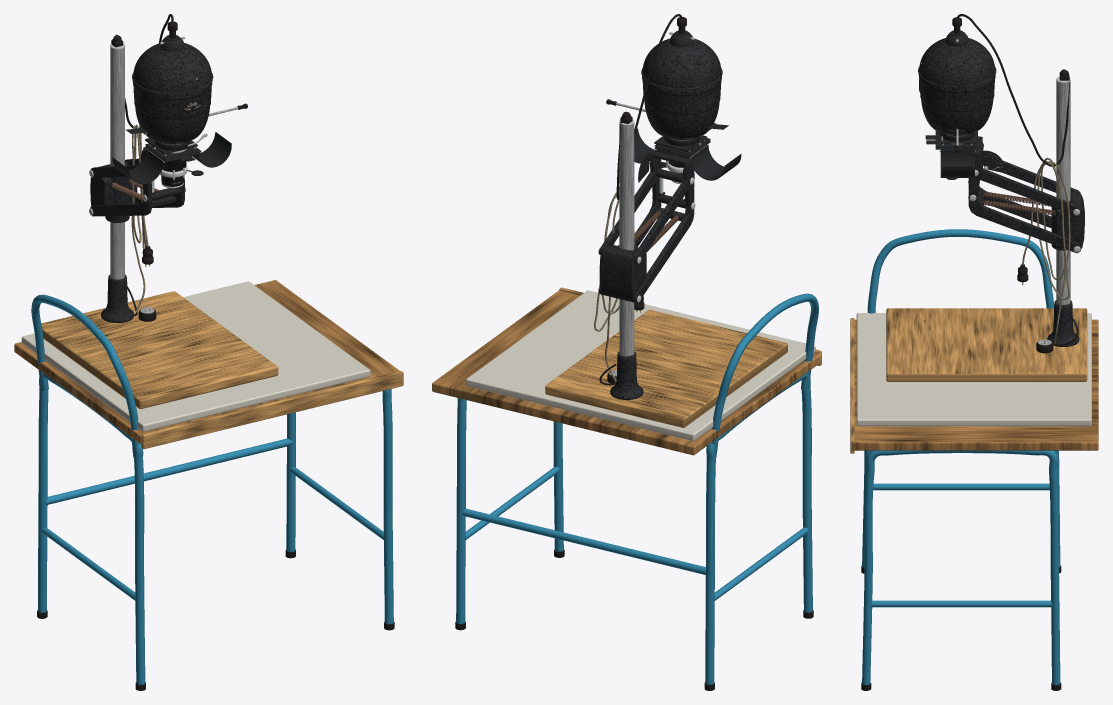
Rendered from upload-f1f31622-40b5-4fcd-8d2b-7025e543b0b1.glb.
3 renders of one model, left to right at view 1: azimuth 30°, elevation 25°; view 2: azimuth 150°, elevation 25°; view 3: azimuth 270°, elevation 25°, orthographic. The views are drawn at different scales.
Visible parts, largest first — view 1: Vernikli büyütme tablası, Beyaz çalışma levhası, Ahşap tezgâh tablası, Mavi boyalı tezgâh yan ayağı, Ön ahşap kuşak, Mavi boyalı tezgâh yan ayağı.001, Üst kubbe, Ana fırçalı çelik kolon, Tezgâhın yükselen mavi itme kolu, Tezgâh alt arka kuşağı, Orta gövde ve pres çizgileri, Alt gövde · havalandırma delikleri (+8 smaller); view 2: Vernikli büyütme tablası, Beyaz çalışma levhası, Ahşap tezgâh tablası, Mavi boyalı tezgâh yan ayağı, Mavi boyalı tezgâh yan ayağı.001, Üst kubbe, Ana fırçalı çelik kolon, Tezgâhın yükselen mavi itme kolu, Kolon kızağının arka döküm kulağı, Tezgâh alt arka kuşağı, Orta gövde ve pres çizgileri, Alt gövde · havalandırma delikleri (+9 smaller); view 3: Vernikli büyütme tablası, Beyaz çalışma levhası, Ahşap tezgâh tablası, Mavi boyalı tezgâh yan ayağı.001, Üst kubbe, Tezgâhın yükselen mavi itme kolu, Ana fırçalı çelik kolon, Orta gövde ve pres çizgileri, Bej kablo · kolona asılı üç gevşek halka, Alt yan çapraz borusu.001, Alt gövde · havalandırma delikleri, Alt yan çapraz borusu (+11 smaller).
Boxes of the visible parts, x1=… form: Vernikli büyütme tablası: x1=41, y1=291, x2=278, y2=408; Beyaz çalışma levhası: x1=21, y1=281, x2=370, y2=431; Ahşap tezgâh tablası: x1=14, y1=280, x2=399, y2=444; Mavi boyalı tezgâh yan ayağı: x1=37, y1=373, x2=145, y2=684; Ön ahşap kuşak: x1=141, y1=371, x2=403, y2=449; Mavi boyalı tezgâh yan ayağı.001: x1=286, y1=389, x2=393, y2=624; Üst kubbe: x1=133, y1=43, x2=211, y2=92; Ana fırçalı çelik kolon: x1=110, y1=47, x2=124, y2=279; Tezgâhın yükselen mavi itme kolu: x1=31, y1=294, x2=138, y2=457; Tezgâh alt arka kuşağı: x1=45, y1=438, x2=293, y2=504; Orta gövde ve pres çizgileri: x1=132, y1=80, x2=212, y2=119; Alt gövde · havalandırma delikleri: x1=135, y1=107, x2=209, y2=144; Vernikli büyütme tablası: x1=545, y1=309, x2=787, y2=427; Beyaz çalışma levhası: x1=466, y1=290, x2=815, y2=440; Ahşap tezgâh tablası: x1=432, y1=290, x2=821, y2=455; Mavi boyalı tezgâh yan ayağı: x1=705, y1=373, x2=812, y2=684; Mavi boyalı tezgâh yan ayağı.001: x1=456, y1=398, x2=563, y2=623; Üst kubbe: x1=642, y1=38, x2=721, y2=88; Ana fırçalı çelik kolon: x1=619, y1=123, x2=634, y2=356; Tezgâhın yükselen mavi itme kolu: x1=712, y1=293, x2=818, y2=457; Kolon kızağının arka döküm kulağı: x1=599, y1=245, x2=646, y2=302; Tezgâh alt arka kuşağı: x1=462, y1=508, x2=706, y2=574; Orta gövde ve pres çizgileri: x1=642, y1=76, x2=721, y2=115; Alt gövde · havalandırma delikleri: x1=644, y1=102, x2=719, y2=140; Vernikli büyütme tablası: x1=886, y1=308, x2=1087, y2=381; Beyaz çalışma levhası: x1=856, y1=313, x2=1091, y2=426; Ahşap tezgâh tablası: x1=852, y1=319, x2=1098, y2=450; Mavi boyalı tezgâh yan ayağı.001: x1=862, y1=450, x2=1060, y2=684; Üst kubbe: x1=919, y1=38, x2=995, y2=85; Tezgâhın yükselen mavi itme kolu: x1=867, y1=229, x2=1054, y2=313; Ana fırçalı çelik kolon: x1=1056, y1=81, x2=1070, y2=304; Orta gövde ve pres çizgileri: x1=918, y1=74, x2=995, y2=111; Bej kablo · kolona asılı üç gevşek halka: x1=1022, y1=157, x2=1070, y2=344; Alt yan çapraz borusu.001: x1=871, y1=600, x2=1052, y2=607; Alt gövde · havalandırma delikleri: x1=921, y1=99, x2=993, y2=135; Alt yan çapraz borusu: x1=873, y1=483, x2=1049, y2=490.
Bounding box in the file's own units: 0.8086 × 1.73 × 0.6549.
Materials: 17 (5 with a texture image).
